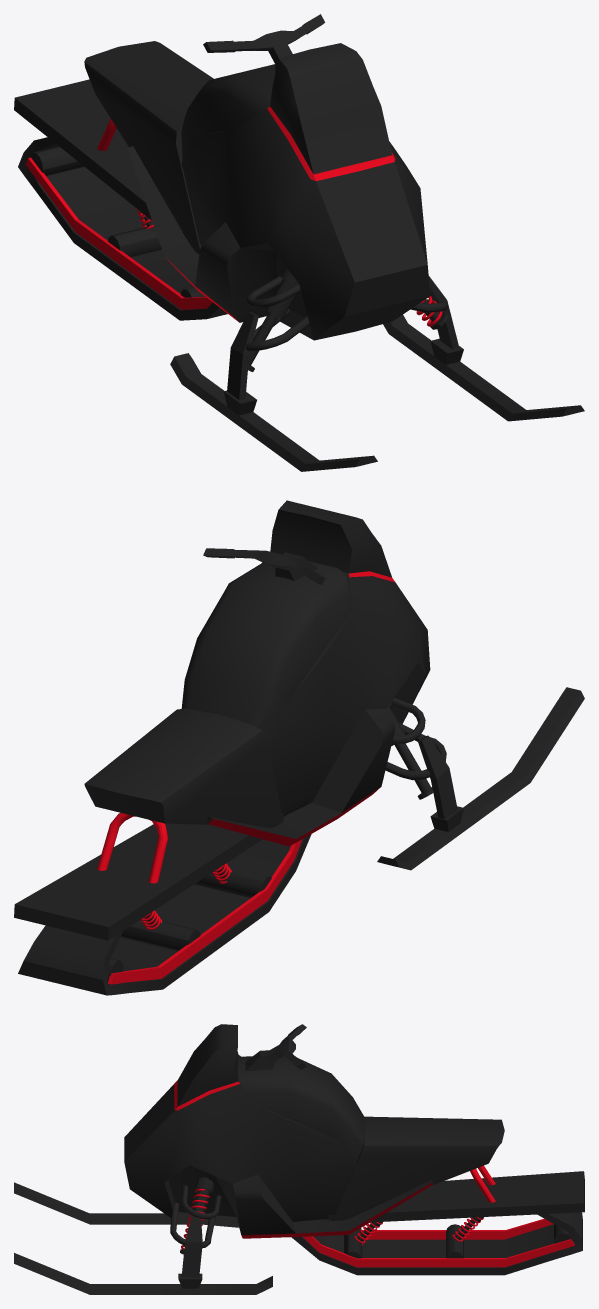
The model's file is SnowMobile_1.fbx.
The picture shows the model from 3 angles, top to bottom: view 1: azimuth 30°, elevation 25°; view 2: azimuth 150°, elevation 25°; view 3: azimuth 270°, elevation 25°; orthographic projection. The views are drawn at different scales.
Parts seen in each view (by area): view 1: Cube.045; view 2: Cube.045; view 3: Cube.045.
Boxes of the visible parts, x1,y1,x2,y2 form: Cube.045: (14,14,584,471); Cube.045: (14,500,584,995); Cube.045: (14,1024,584,1294).
Size of the model in its own units: 124 by 167 by 383.
